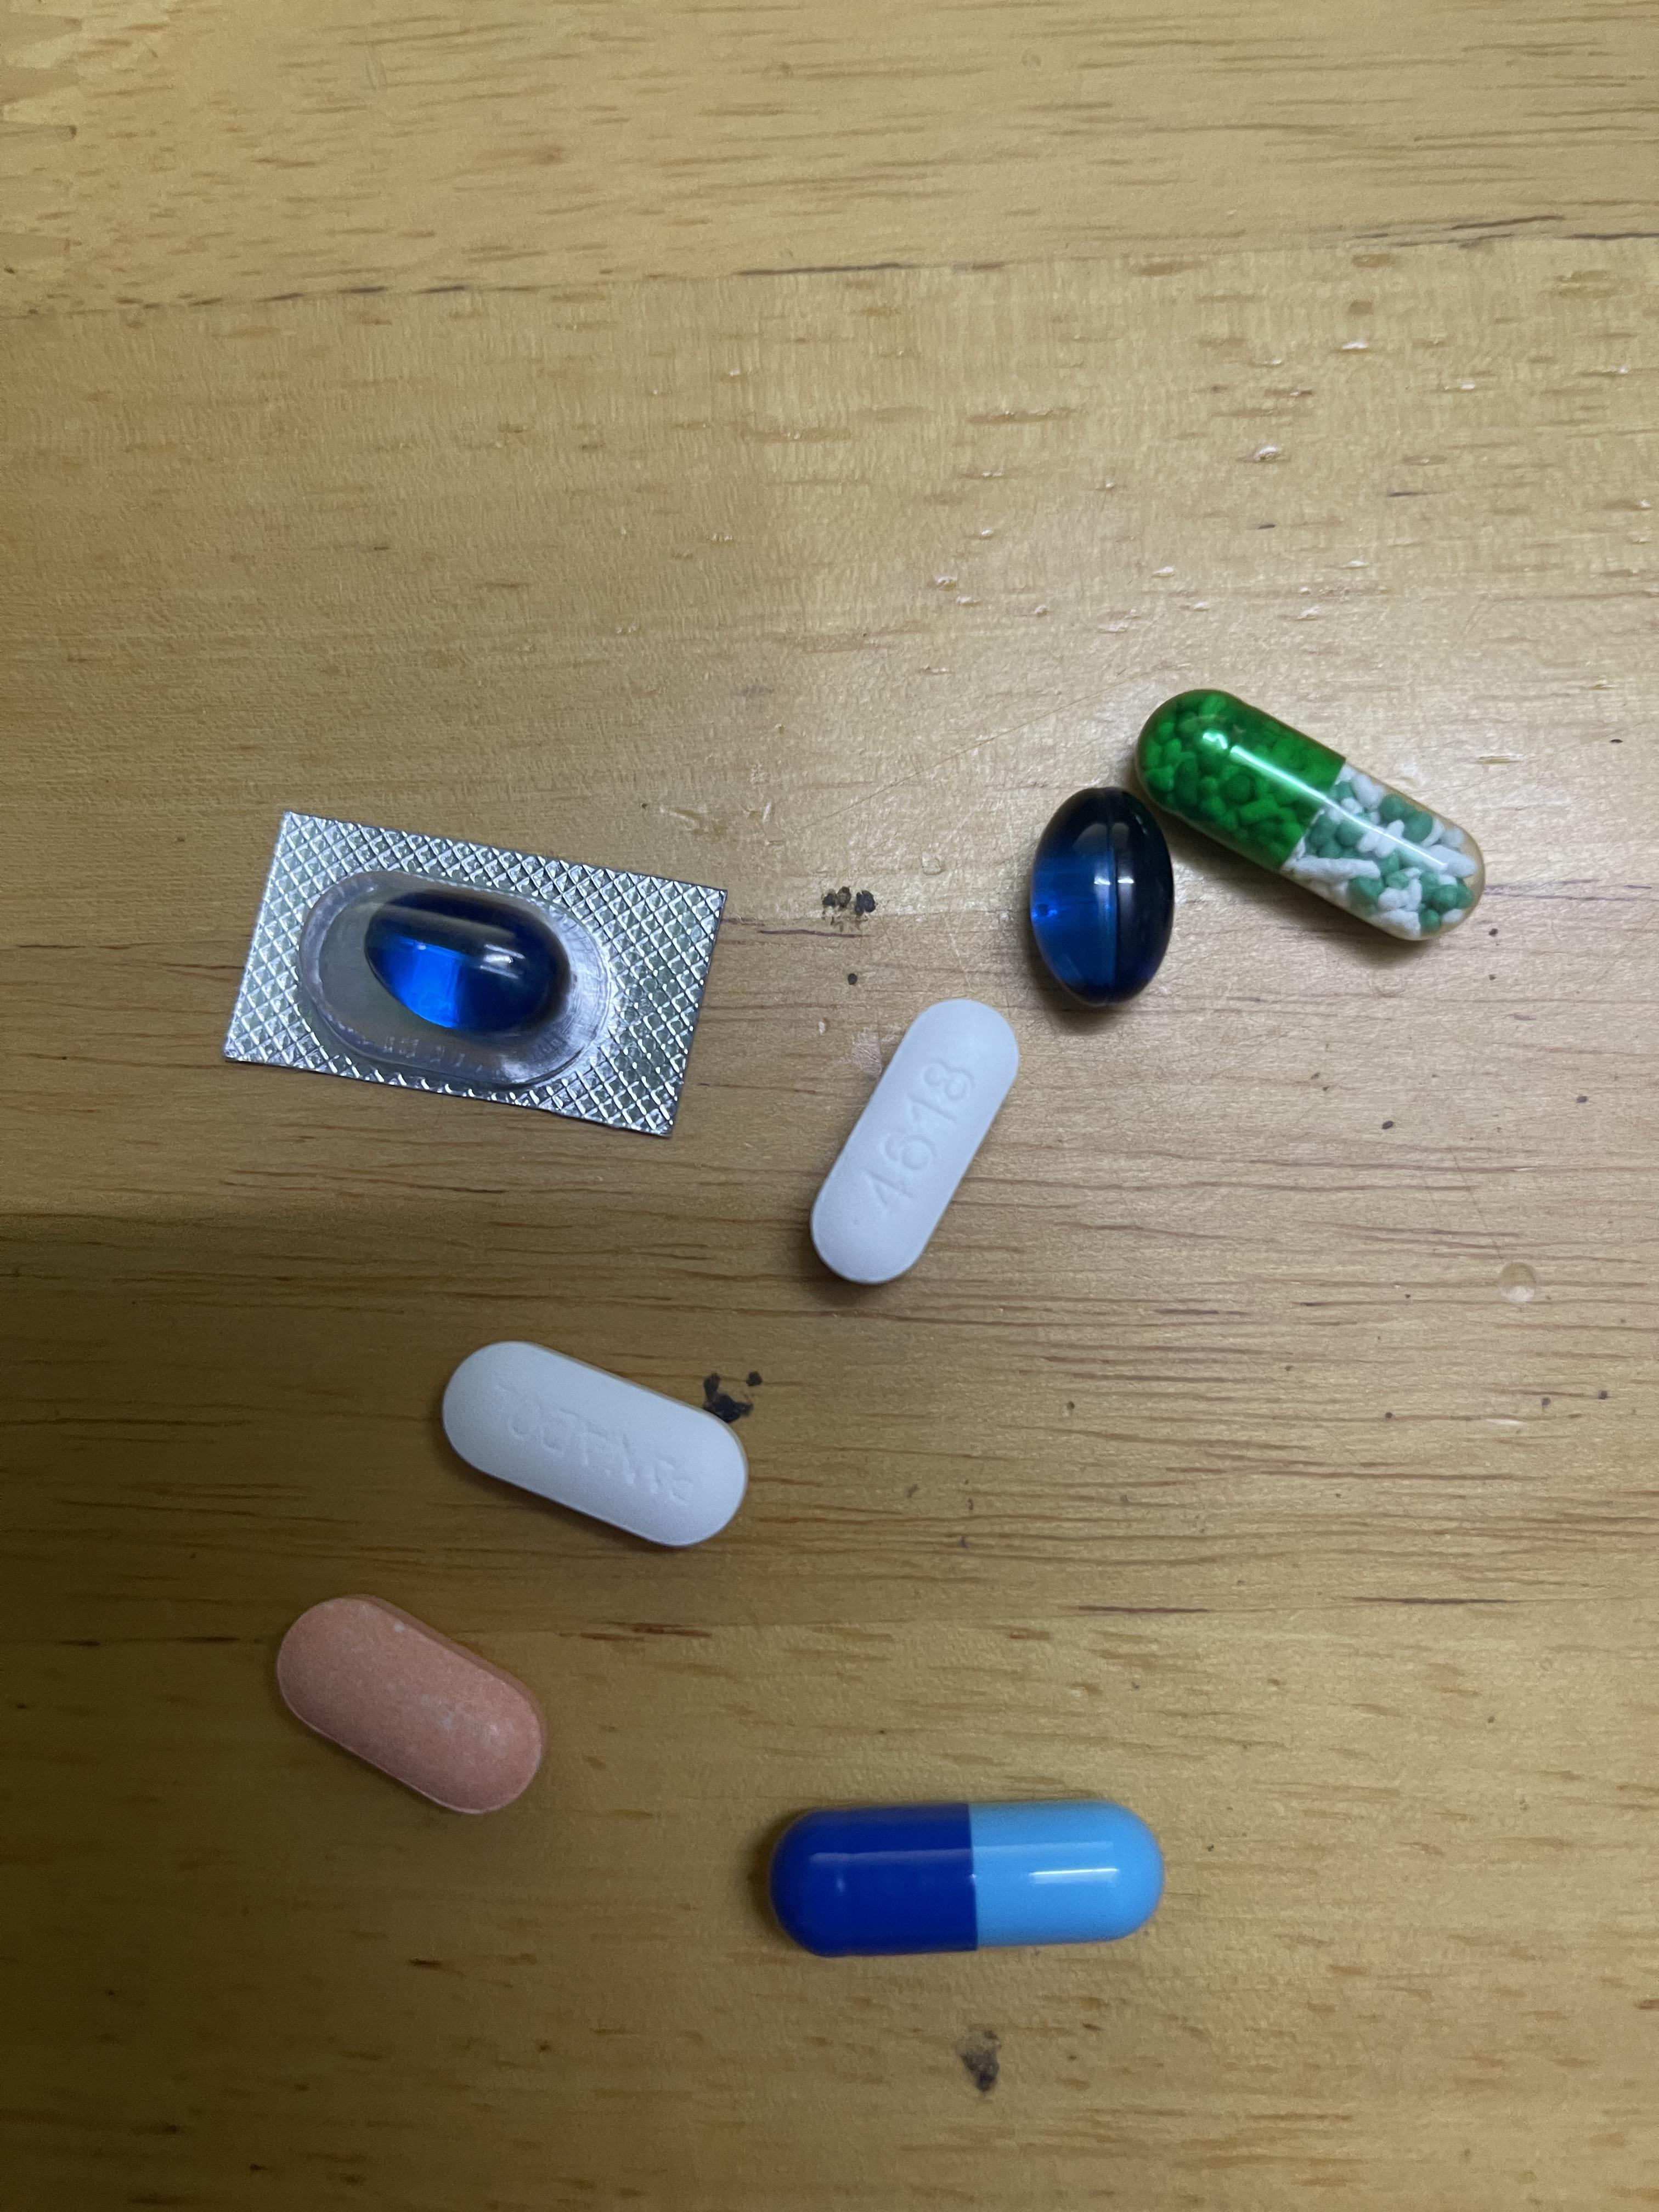Lincomyxin_500mg: (1028, 794, 1171, 1003), (364, 897, 563, 1036)
Loratadine_10mg: (275, 1595, 549, 1820)
Paracetamol_350mg: (810, 1001, 1014, 1282)
Paracetamol_500mg: (450, 1343, 739, 1548)
Paracetamol_650mg: (1143, 695, 1480, 939)
pill: (775, 1801, 1152, 1951)
